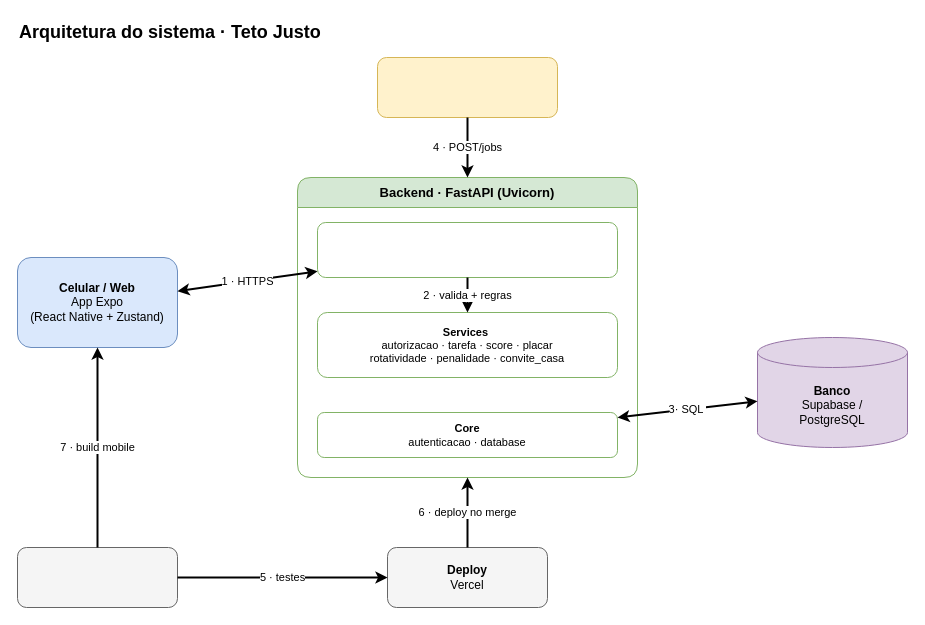
This 925x625 diagram has some shape labels left out. The shapes that lost their labels are listed below. From the top down, each one's centre as x and y in pixels, then its label:
At pixel 467 87: "Agendador cron diário (00:05 BRT)".
At pixel 467 250: "Routers usuario · sessao · casa · pertencer tarefa · rotatividade · jobs".
At pixel 97 577: "CI pytest · lint · EAS".
